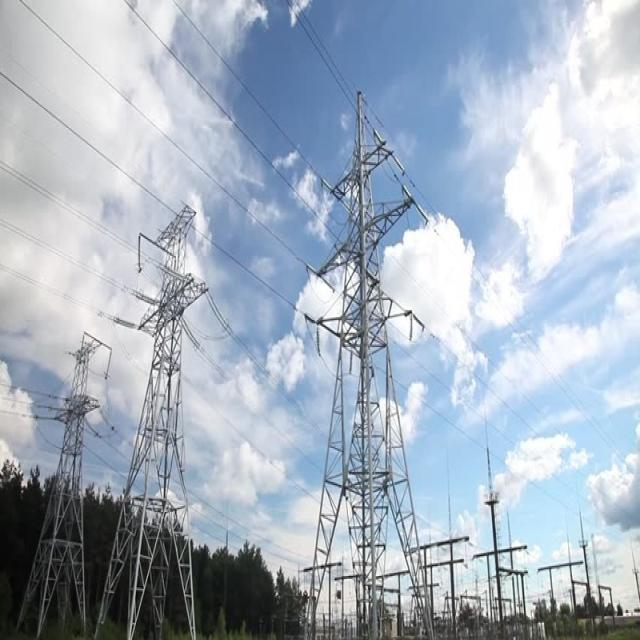non-critical vegetation: (293, 74, 452, 633), (124, 188, 213, 632), (15, 332, 94, 632)
